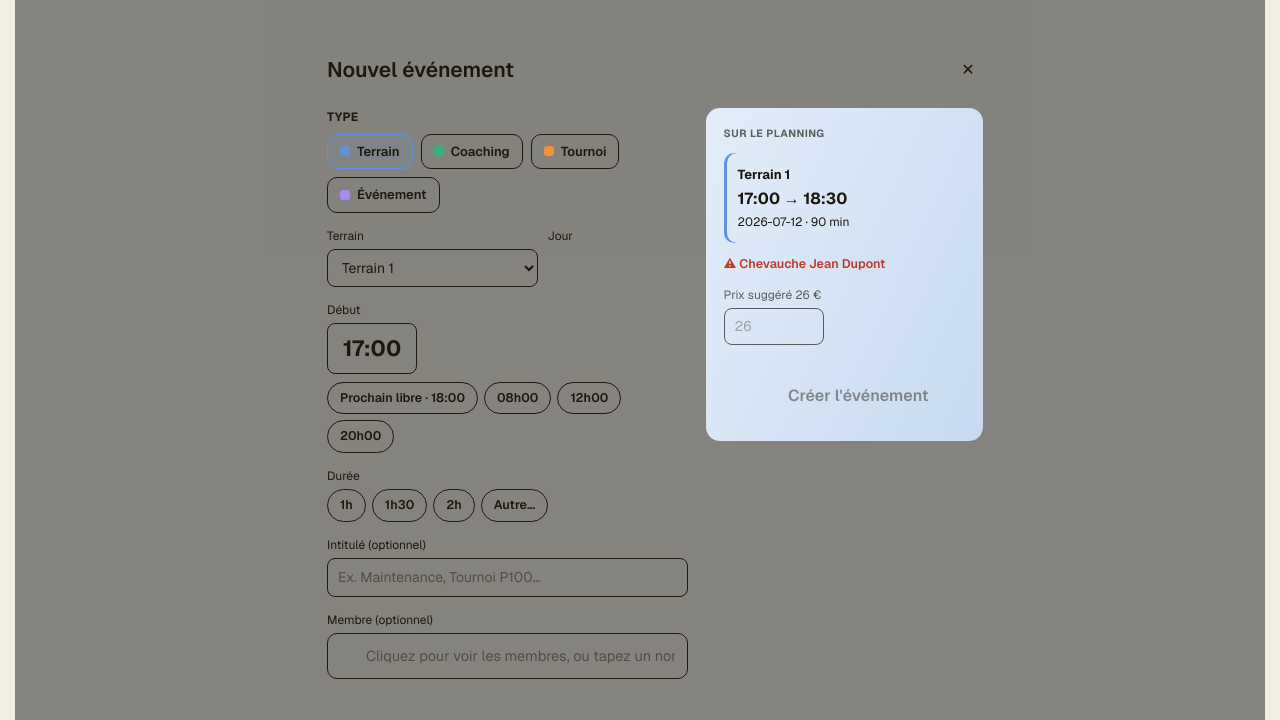
Test: CreateEventModal — chips intelligentes › cliquer « Prochain libre » saute par-dessus le créneau occupé et pose le début
The width and height of the screenshot is (1280, 720).
Click the button "Prochain libre · 18:00": (403, 398) [327, 382, 478, 414]
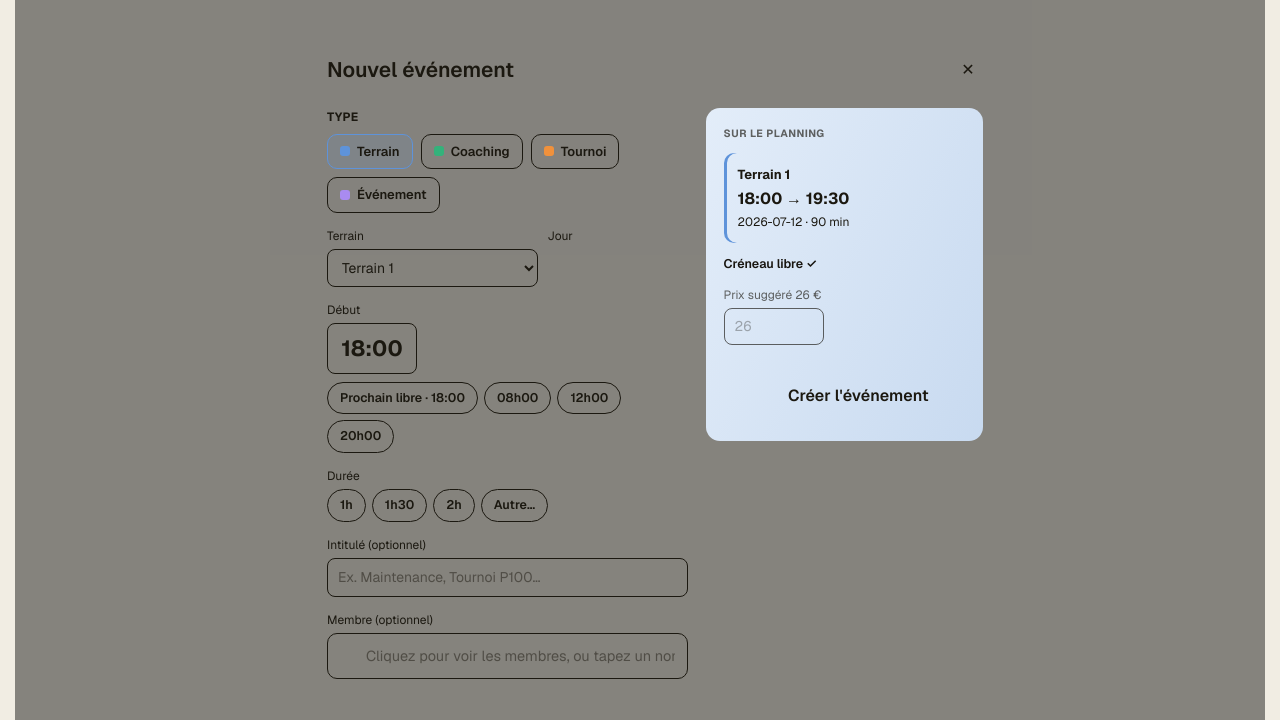
Expected: the field showing "18:00" is shown, [327, 322, 417, 374]
